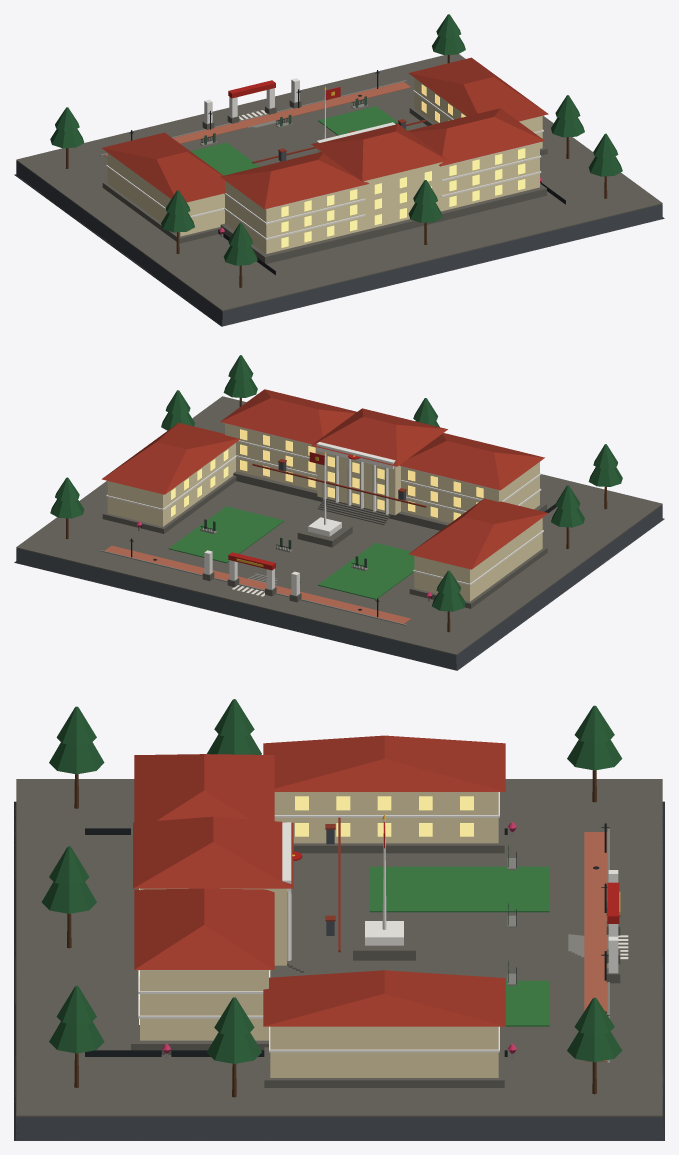
Rendered from lm_44_hoc_vien_luc_quan_dalat.glb.
3 renders of one model, top to bottom at view 1: azimuth 30°, elevation 25°; view 2: azimuth 150°, elevation 25°; view 3: azimuth 270°, elevation 25°, orthographic. The views are drawn at different scales.
Parts seen in each view (by area): view 1: Foundation_Plinth_Trim, Academy_Ochre_Walls, Foundation_Skirt, Academy_Pine_Canopies, Academy_Side_Hall_Roof_West_Tactical, Academy_Command_Wing_Roof_West, Academy_Granite_Podium_And_Steps, Academy_Command_Center_Roof, Academy_Side_Hall_Roof_East_Strategic, Academy_Command_Wing_Roof_East, Academy_White_Pillars_And_Cornices, Academy_Glowing_Windows (+6 smaller); view 2: Foundation_Plinth_Trim, Academy_Ochre_Walls, Foundation_Skirt, Academy_Campus_Lawns, Academy_Pine_Canopies, Academy_Granite_Podium_And_Steps, Academy_White_Pillars_And_Cornices, Academy_Side_Hall_Roof_West_Tactical, Academy_Side_Hall_Roof_East_Strategic, Academy_Command_Wing_Roof_West, Academy_Command_Wing_Roof_East, Academy_Command_Center_Roof (+5 smaller); view 3: Foundation_Plinth_Trim, Academy_Ochre_Walls, Foundation_Skirt, Academy_Pine_Canopies, Academy_Side_Hall_Roof_East_Strategic, Academy_Side_Hall_Roof_West_Tactical, Academy_Command_Wing_Roof_East, Academy_Command_Center_Roof, Academy_Campus_Lawns, Academy_Granite_Podium_And_Steps, Academy_Command_Wing_Roof_West, Academy_White_Pillars_And_Cornices (+6 smaller).
Part boxes in pixels (<box>): Foundation_Plinth_Trim: <box>16,54,662,311</box>; Academy_Ochre_Walls: <box>107,78,542,253</box>; Foundation_Skirt: <box>14,161,664,326</box>; Academy_Pine_Canopies: <box>50,14,622,265</box>; Academy_Side_Hall_Roof_West_Tactical: <box>102,132,226,202</box>; Academy_Command_Wing_Roof_West: <box>220,152,368,209</box>; Academy_Granite_Podium_And_Steps: <box>102,100,547,263</box>; Academy_Command_Center_Roof: <box>311,123,447,181</box>; Academy_Side_Hall_Roof_East_Strategic: <box>408,57,548,121</box>; Academy_Command_Wing_Roof_East: <box>408,108,544,166</box>; Academy_White_Pillars_And_Cornices: <box>106,78,543,239</box>; Academy_Glowing_Windows: <box>281,84,525,247</box>; Foundation_Plinth_Trim: <box>16,396,662,655</box>; Academy_Ochre_Walls: <box>107,423,542,601</box>; Foundation_Skirt: <box>14,505,664,670</box>; Academy_Campus_Lawns: <box>168,506,414,599</box>; Academy_Pine_Canopies: <box>50,355,622,611</box>; Academy_Granite_Podium_And_Steps: <box>102,471,547,608</box>; Academy_White_Pillars_And_Cornices: <box>106,423,543,595</box>; Academy_Side_Hall_Roof_West_Tactical: <box>408,498,548,569</box>; Academy_Side_Hall_Roof_East_Strategic: <box>102,423,239,494</box>; Academy_Command_Wing_Roof_West: <box>399,433,544,490</box>; Academy_Command_Wing_Roof_East: <box>220,389,356,444</box>; Academy_Command_Center_Roof: <box>311,408,447,466</box>; Foundation_Plinth_Trim: <box>16,779,662,1117</box>; Academy_Ochre_Walls: <box>140,792,498,1077</box>; Foundation_Skirt: <box>14,801,664,1140</box>; Academy_Pine_Canopies: <box>41,699,622,1063</box>; Academy_Side_Hall_Roof_East_Strategic: <box>263,970,505,1026</box>; Academy_Side_Hall_Roof_West_Tactical: <box>263,735,505,791</box>; Academy_Command_Wing_Roof_East: <box>134,888,274,969</box>; Academy_Command_Center_Roof: <box>133,816,293,888</box>; Academy_Campus_Lawns: <box>369,866,549,1026</box>; Academy_Granite_Podium_And_Steps: <box>131,798,620,1087</box>; Academy_Command_Wing_Roof_West: <box>134,754,274,822</box>; Academy_White_Pillars_And_Cornices: <box>138,792,618,1052</box>.
Bounding box in the file's own units: 107 × 23 × 86.73.
